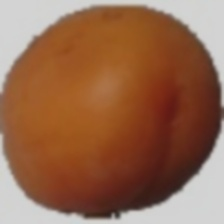apricot: (44, 0, 198, 199)
